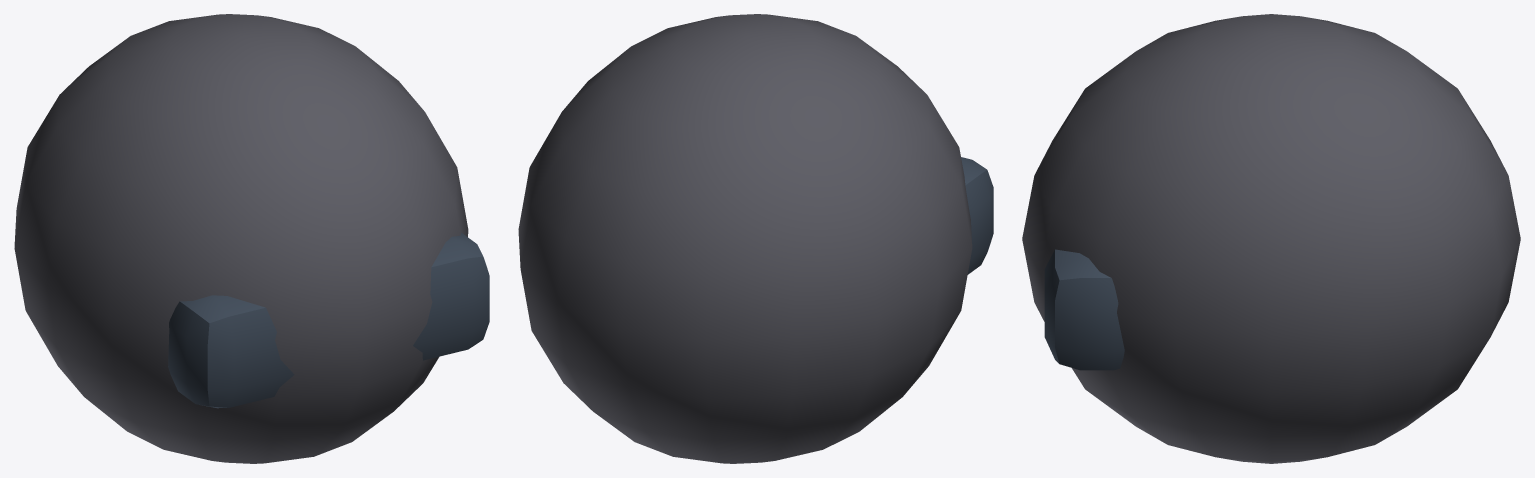
File: moto_helmet.glb
3 views of the same model, side by side, from view 1: azimuth 30°, elevation 25°; view 2: azimuth 150°, elevation 25°; view 3: azimuth 270°, elevation 25° (orthographic).
Parts seen in each view (by area): view 1: moto_helmet; view 2: moto_helmet; view 3: moto_helmet.
Part boxes in pixels (x1,y1,x2,y2): moto_helmet: (14,14,489,463); moto_helmet: (518,14,993,463); moto_helmet: (1022,14,1520,463).
Size of the model in its own units: 0.26 by 0.26 by 0.286.
